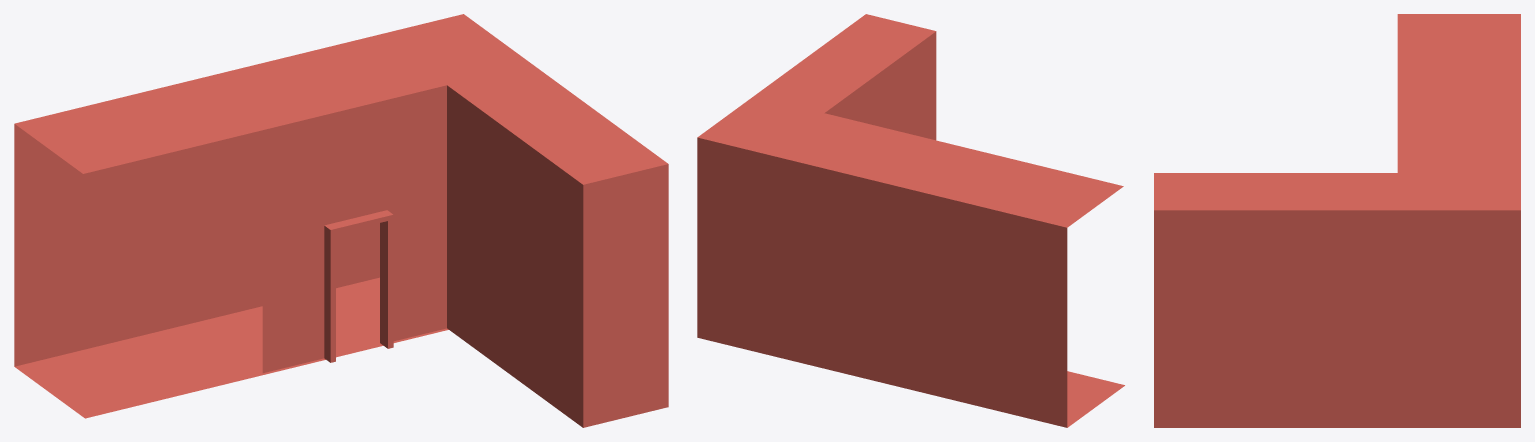
The model's file is SegundoPiso.fbx.
3 views of the same model, side by side, from view 1: azimuth 30°, elevation 25°; view 2: azimuth 150°, elevation 25°; view 3: azimuth 270°, elevation 25° (orthographic). The views are drawn at different scales.
Parts seen in each view (by area): view 1: Pared_SP, Techo_SP, Cube.032, Plane.001, Puerta_PP.001; view 2: Pared_SP, Techo_SP, Plane.001; view 3: Pared_SP, Techo_SP.
Boxes of the visible parts, x1,y1,x2,y2 form: Pared_SP: [14, 85, 668, 427]; Techo_SP: [15, 14, 667, 184]; Cube.032: [262, 85, 446, 373]; Plane.001: [14, 277, 448, 418]; Puerta_PP.001: [324, 210, 393, 362]; Pared_SP: [697, 31, 1067, 427]; Techo_SP: [697, 14, 1123, 227]; Plane.001: [1067, 371, 1124, 427]; Pared_SP: [1154, 210, 1520, 427]; Techo_SP: [1154, 14, 1520, 210].
Size of the model in its own units: 782 by 404 by 618.
